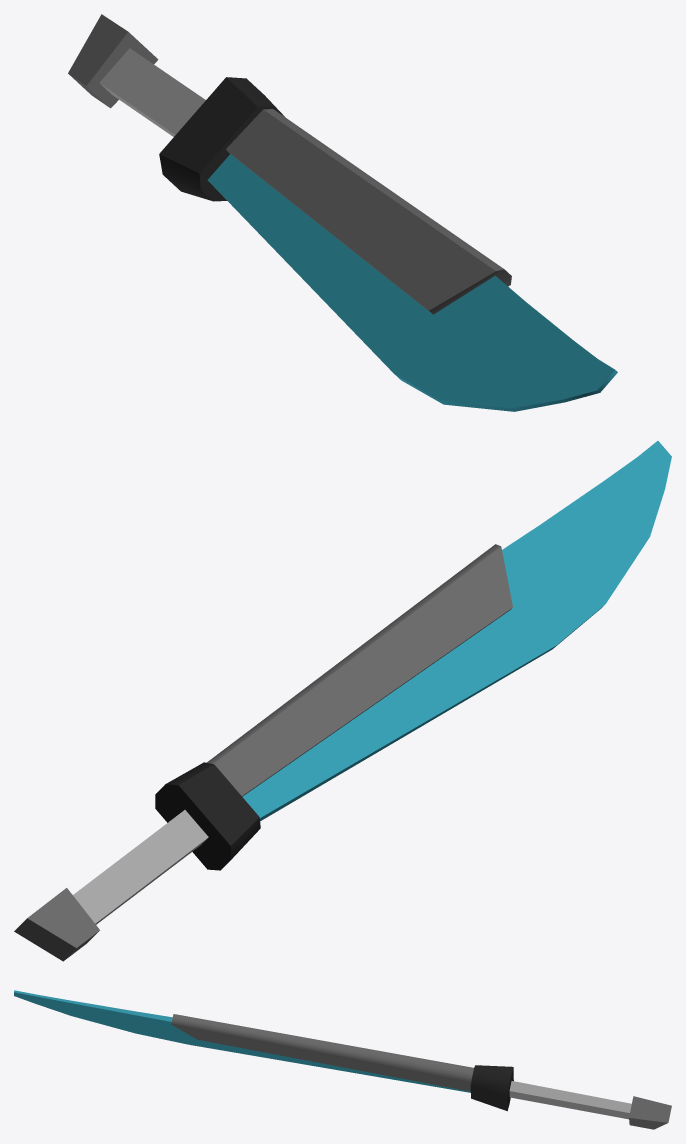
The model's file is Sword.fbx.
The picture shows the model from 3 angles, top to bottom: view 1: azimuth 30°, elevation 25°; view 2: azimuth 150°, elevation 25°; view 3: azimuth 270°, elevation 25°; orthographic projection. The views are drawn at different scales.
Parts seen in each view (by area): view 1: Sword; view 2: Sword; view 3: Sword.
Part boxes in pixels (x1,y1,x2,y2): Sword: (68,14,617,411); Sword: (14,441,671,961); Sword: (14,990,671,1129).
Size of the model in its own units: 0.9916 by 0.9597 by 5.15.
